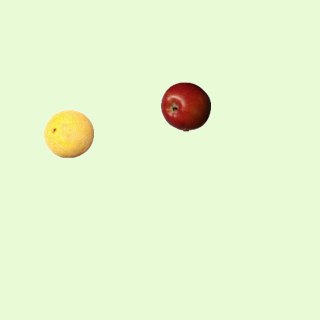Apple Braeburn: (160, 81, 210, 131)
Cantaloupe 1: (43, 108, 93, 158)
